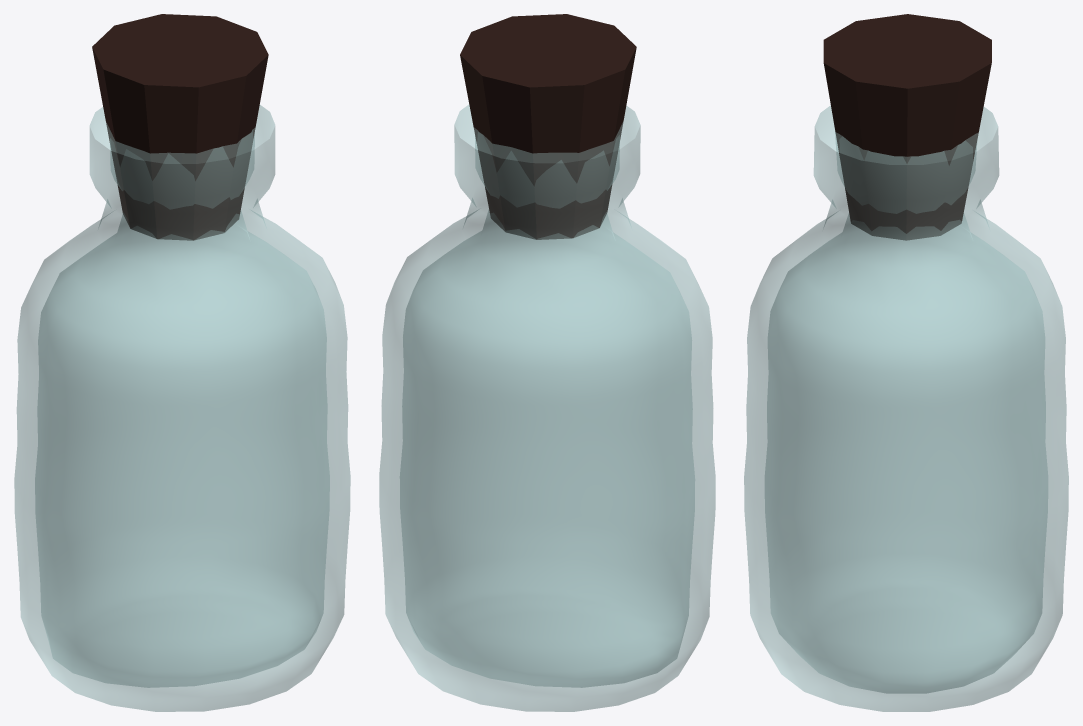
Rendered from Botella_juego.fbx.
The picture shows the model from 3 angles, left to right: view 1: azimuth 30°, elevation 25°; view 2: azimuth 150°, elevation 25°; view 3: azimuth 270°, elevation 25°; orthographic projection.
Parts seen in each view (by area): view 1: polySurface1, pCylinder1; view 2: polySurface1, pCylinder1; view 3: polySurface1, pCylinder1.
Part boxes in pixels (x1,y1,x2,y2): polySurface1: (14, 105, 350, 711); pCylinder1: (92, 14, 268, 240); polySurface1: (379, 105, 715, 711); pCylinder1: (460, 14, 636, 239); polySurface1: (744, 105, 1068, 711); pCylinder1: (823, 14, 991, 240).
Size of the model in its own units: 1.89 by 3.77 by 1.84.
